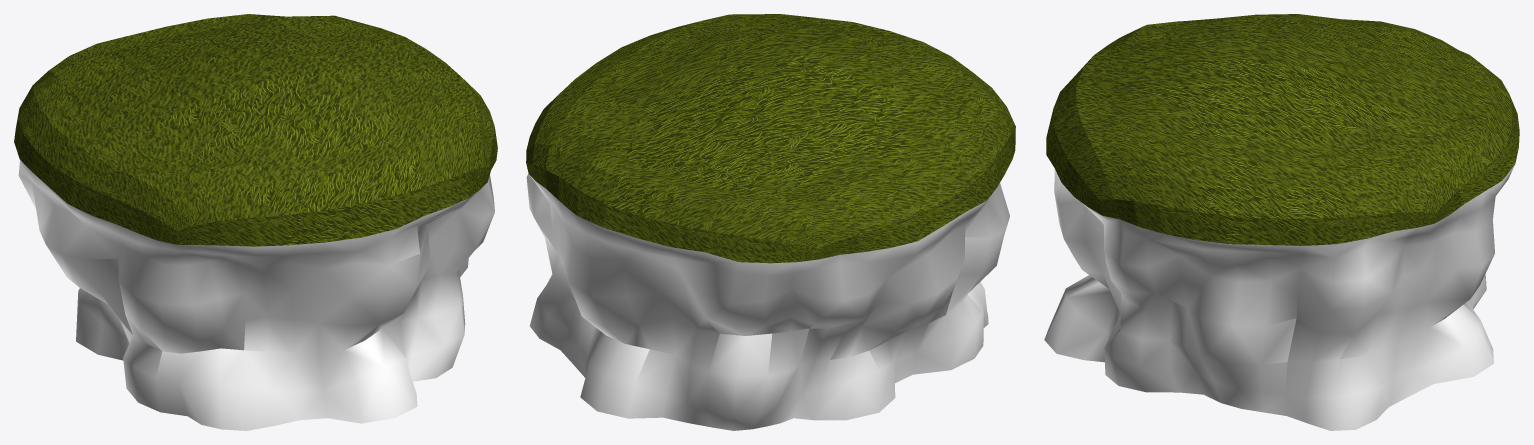
Rendered from PlatformGrass2_LOD0.fbx.
3 views of the same model, side by side, from view 1: azimuth 30°, elevation 25°; view 2: azimuth 150°, elevation 25°; view 3: azimuth 270°, elevation 25° (orthographic). The views are drawn at different scales.
Parts seen in each view (by area): view 1: Mesh; view 2: Mesh; view 3: Mesh.
Part boxes in pixels (x1,y1,x2,y2): Mesh: [14, 14, 497, 430]; Mesh: [526, 14, 1015, 430]; Mesh: [1044, 14, 1519, 430].
Size of the model in its own units: 1427 by 916 by 1452.
